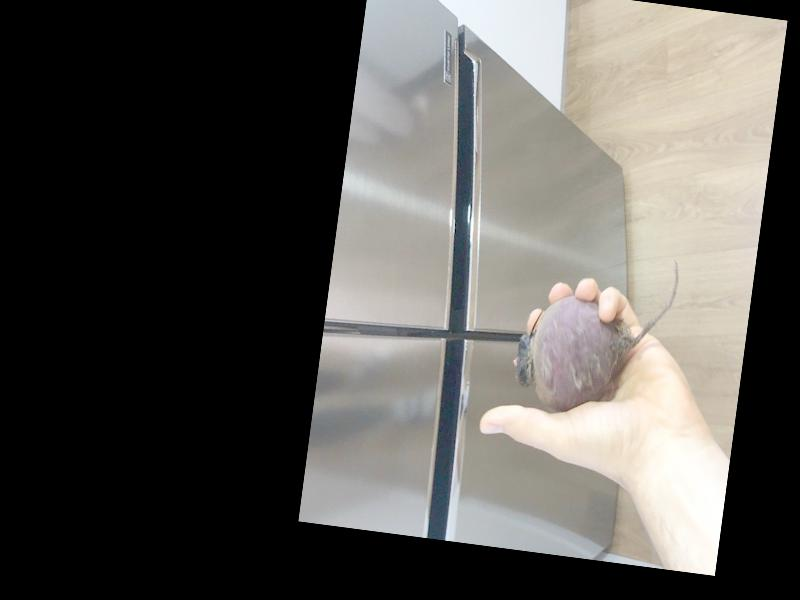Beet: (508, 240, 679, 425)
